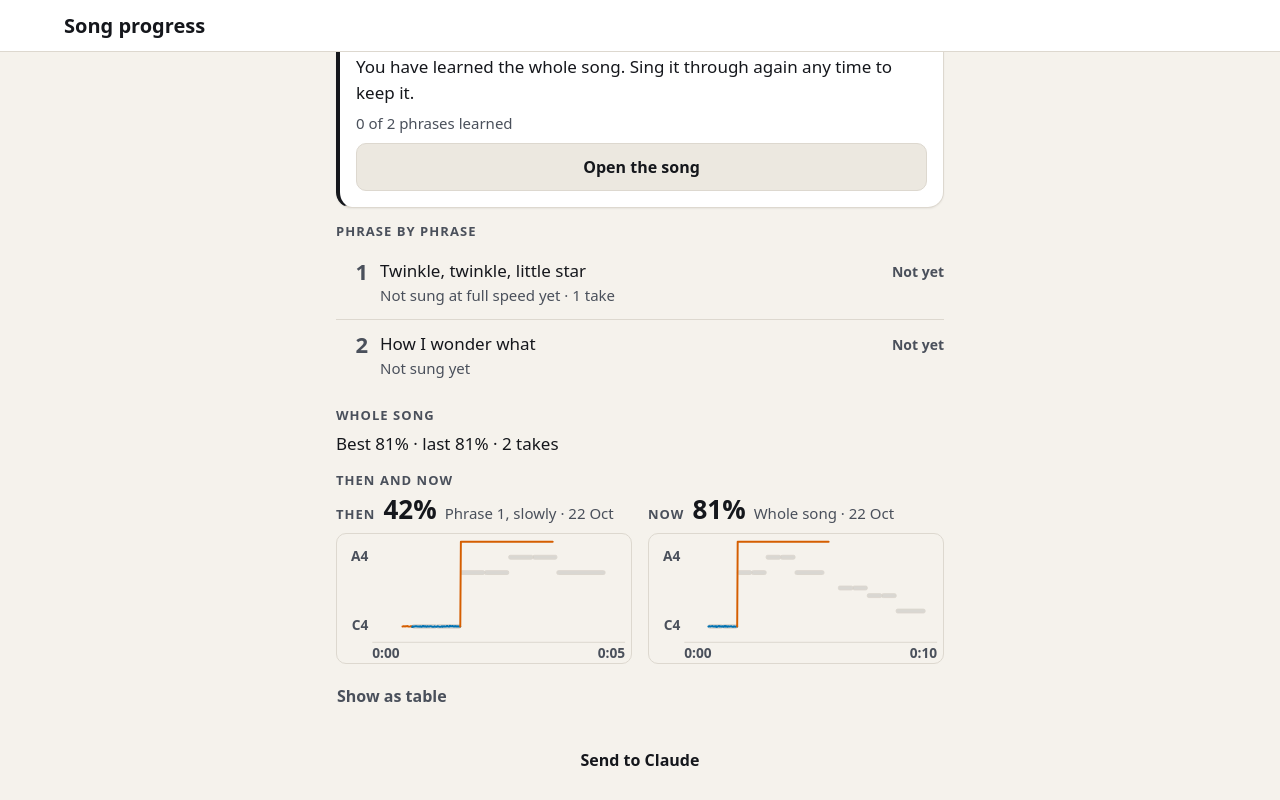
Test: Song progress › shows then and now: the first take against the best whole-song take, drawn, or as a table
(page scrolled)
Expected: the element with test id "then-now-take" shows "Then", [336, 505, 376, 523]
Expected: the element with test id "then-now-take" shows "42%", [384, 491, 437, 527]
Click the button "Show as table".
click(392, 696)  # box [328, 672, 456, 720]
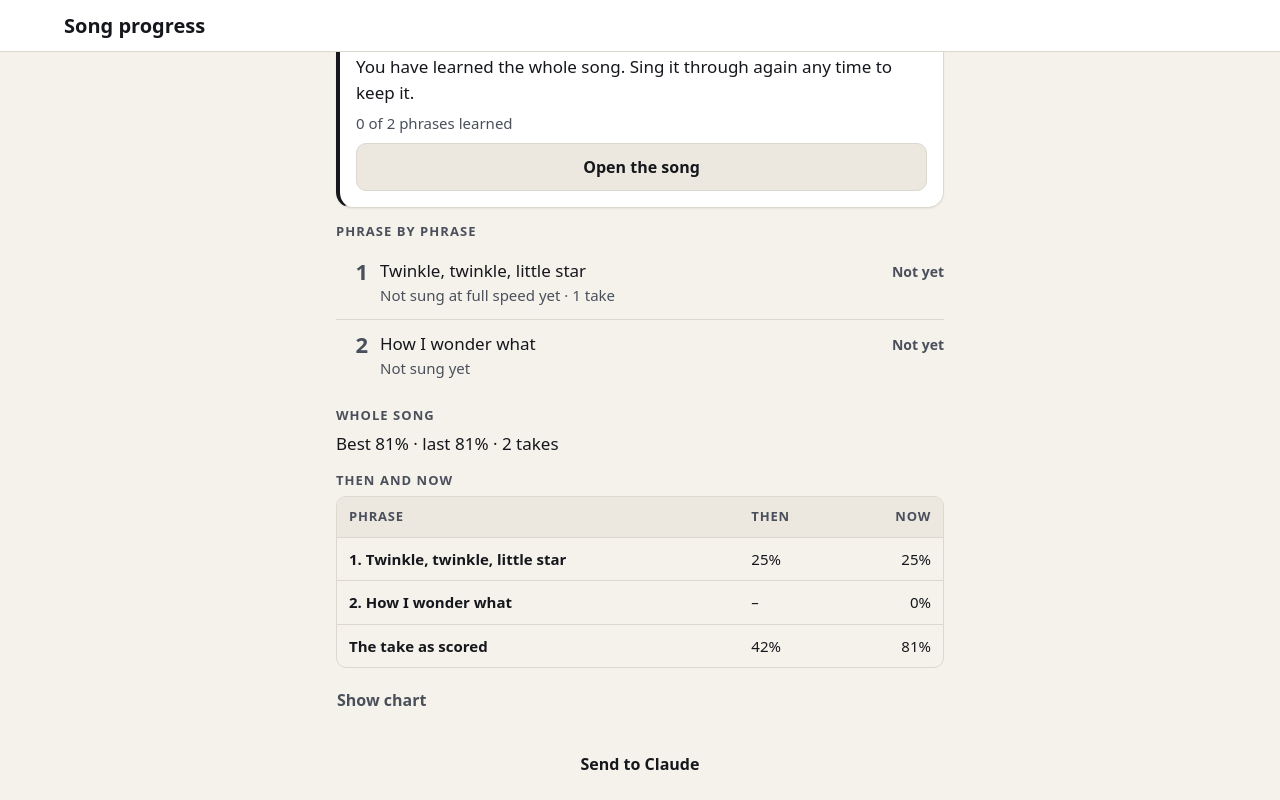
Now the column heading "1. Twinkle, twinkle, little star" is shown, box [337, 538, 739, 581]
Now the column heading "2. How I wonder what" is shown, box [337, 581, 739, 624]
